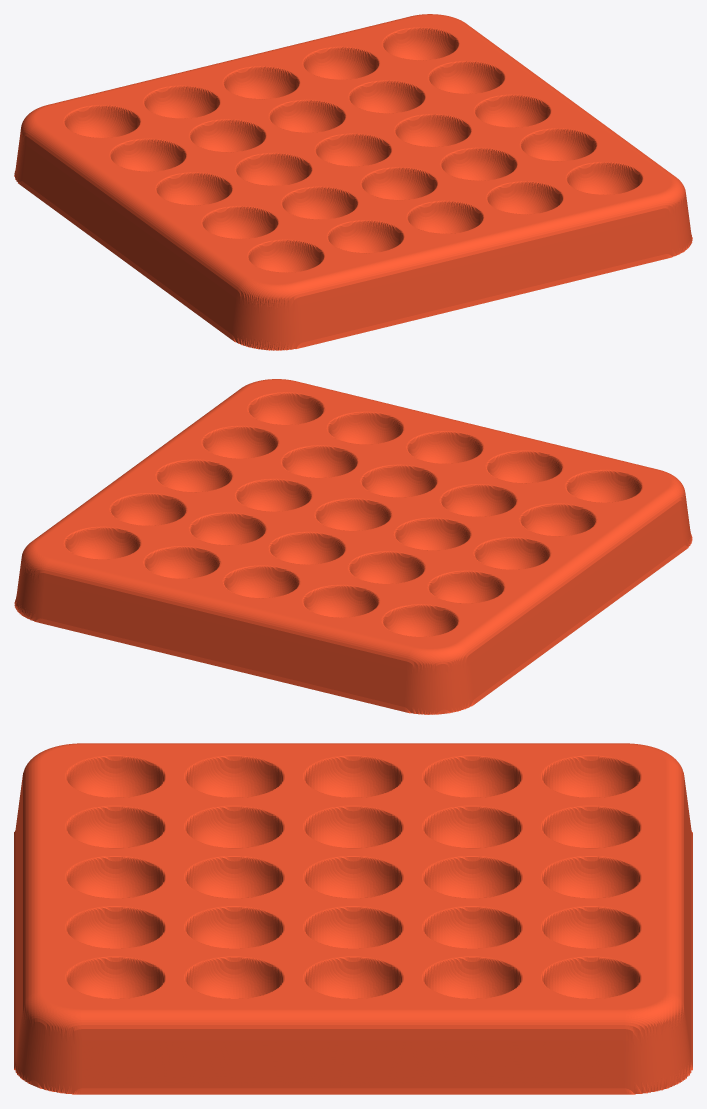
File: mold.glb
The picture shows the model from 3 angles, top to bottom: view 1: azimuth 30°, elevation 25°; view 2: azimuth 150°, elevation 25°; view 3: azimuth 270°, elevation 25°; orthographic projection. The views are drawn at different scales.
Visible parts, largest first — view 1: geometry_0; view 2: geometry_0; view 3: geometry_0.
Boxes of the visible parts, <box> form: geometry_0: <box>14,14,692,350</box>; geometry_0: <box>14,379,692,714</box>; geometry_0: <box>14,743,692,1094</box>.
Size of the model in its own units: 0.0902 by 0.0108 by 0.0902.
